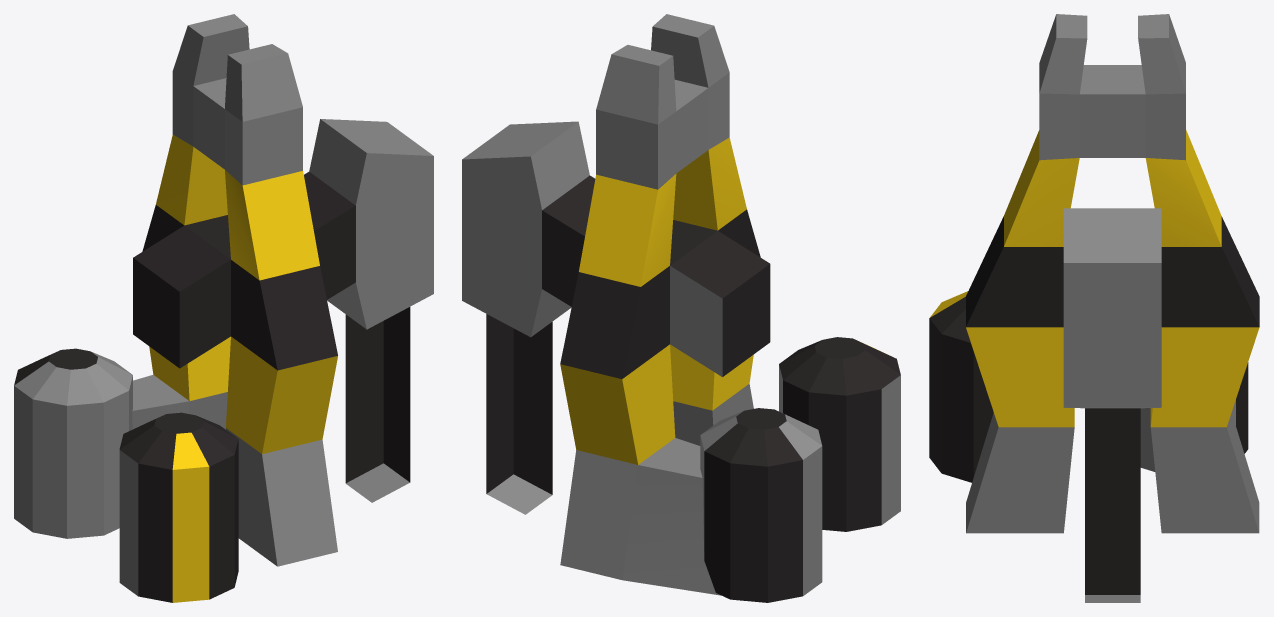
File: refinery.glb
The picture shows the model from 3 angles, left to right: view 1: azimuth 30°, elevation 25°; view 2: azimuth 150°, elevation 25°; view 3: azimuth 270°, elevation 25°; orthographic projection. The views are drawn at different scales.
Visible parts, largest first — view 1: Cube; view 2: Cube; view 3: Cube.
Boxes of the visible parts, bbox=[...] form: Cube: bbox=[14, 14, 433, 602]; Cube: bbox=[462, 14, 900, 602]; Cube: bbox=[929, 14, 1259, 602].
Bounding box in the file's own units: 13.7 × 17.92 × 10.57.
